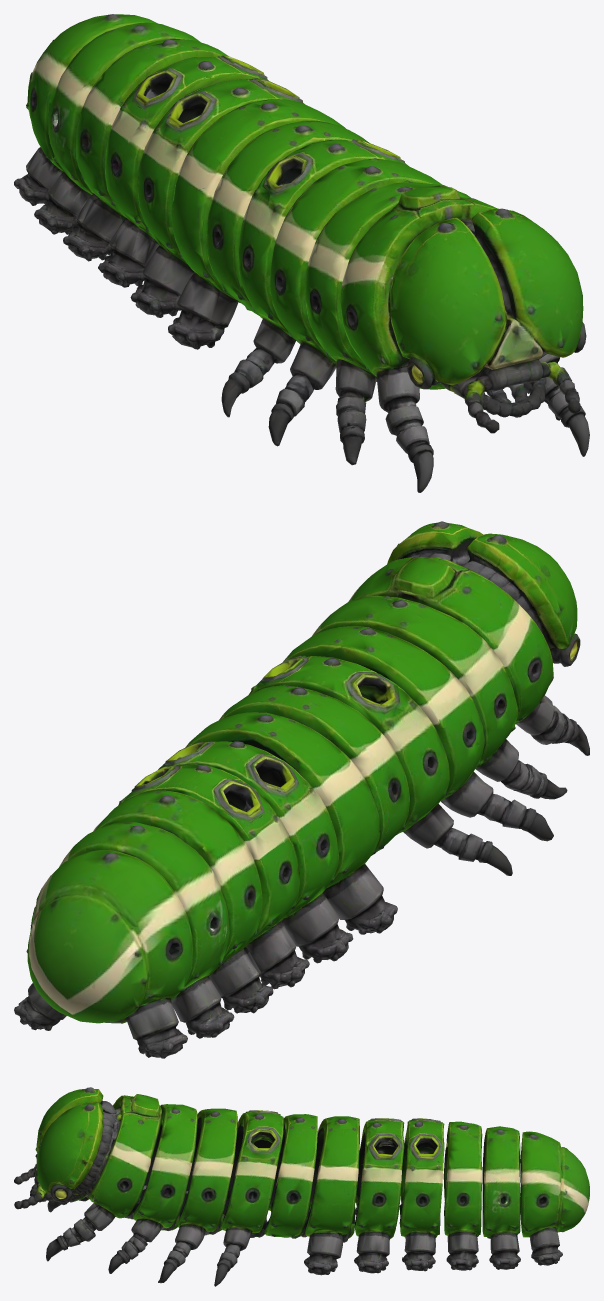
Rendered from silkworm.glb.
3 renders of one model, top to bottom at view 1: azimuth 30°, elevation 25°; view 2: azimuth 150°, elevation 25°; view 3: azimuth 270°, elevation 25°, orthographic. The views are drawn at different scales.
Bounding box in the file's own units: 1.23 × 0.9796 × 3.4.
1 material, 1 textured.
